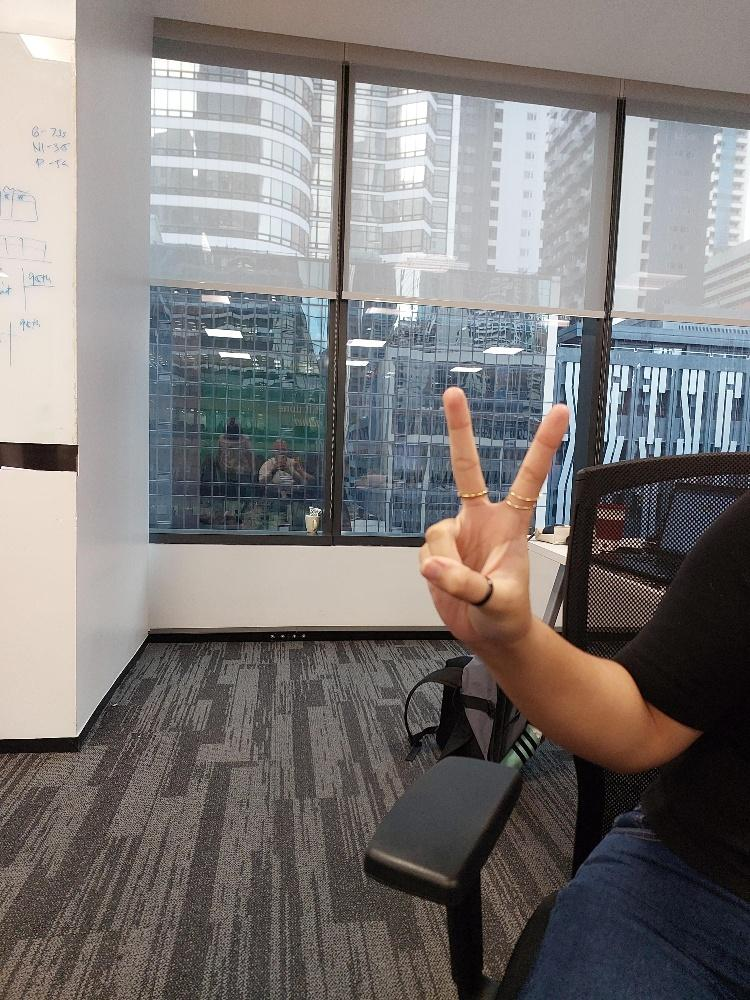v: (415, 384, 573, 649)
